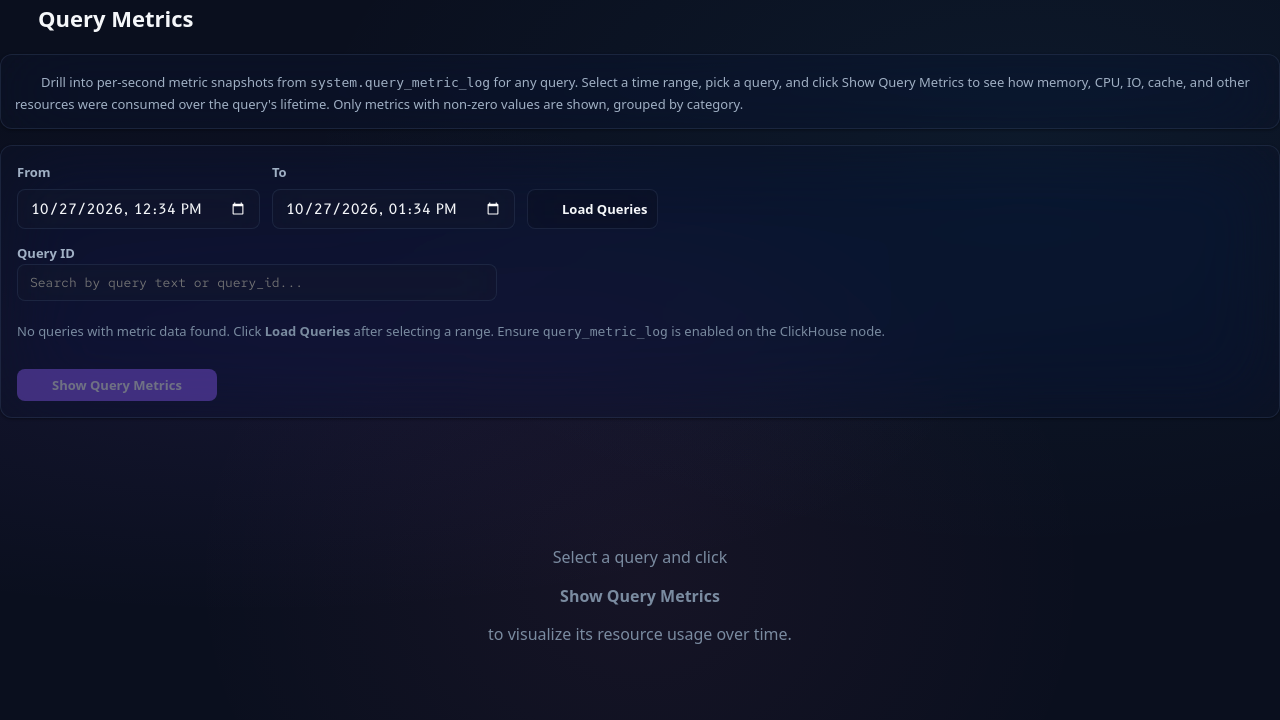
Test: QueryMetrics Component › popup full query fallback when full query fetch fails
The image size is (1280, 720).
Click the button "Load Queries". click: {"x": 593, "y": 209}
box: [527,189,658,229]
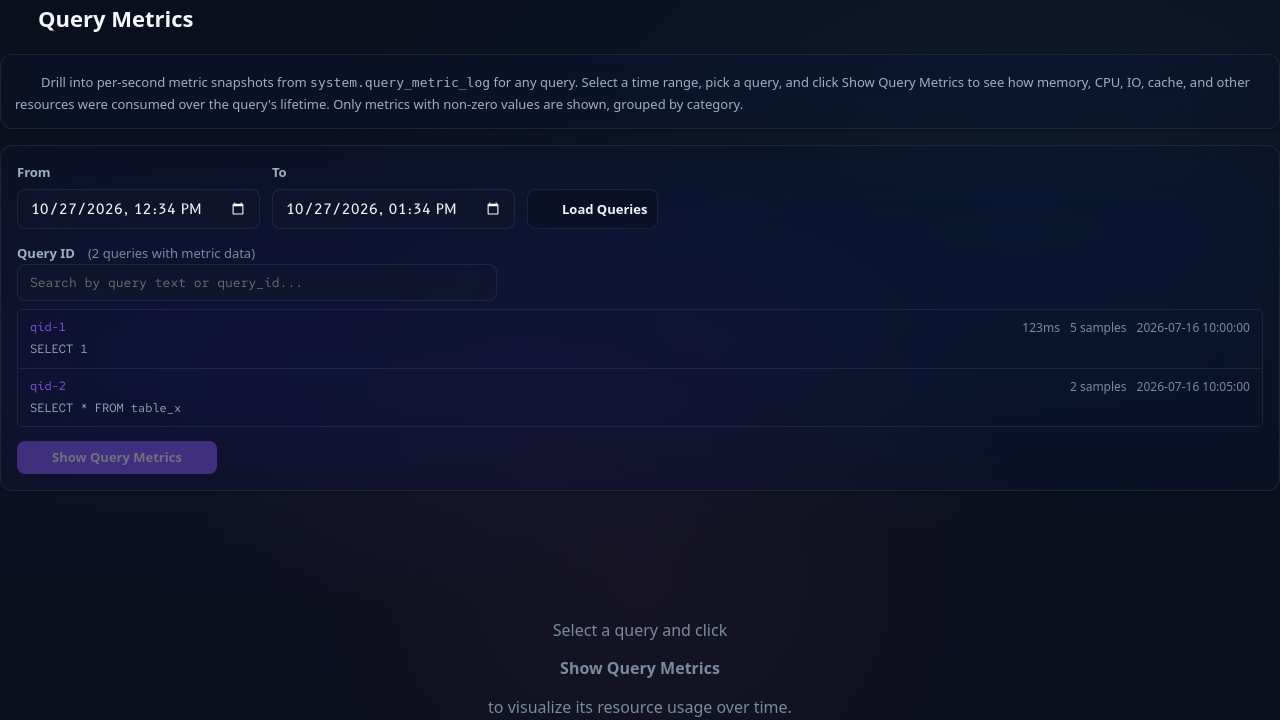
Click the text "qid-1". click: {"x": 48, "y": 328}
box: [30,318,66,338]
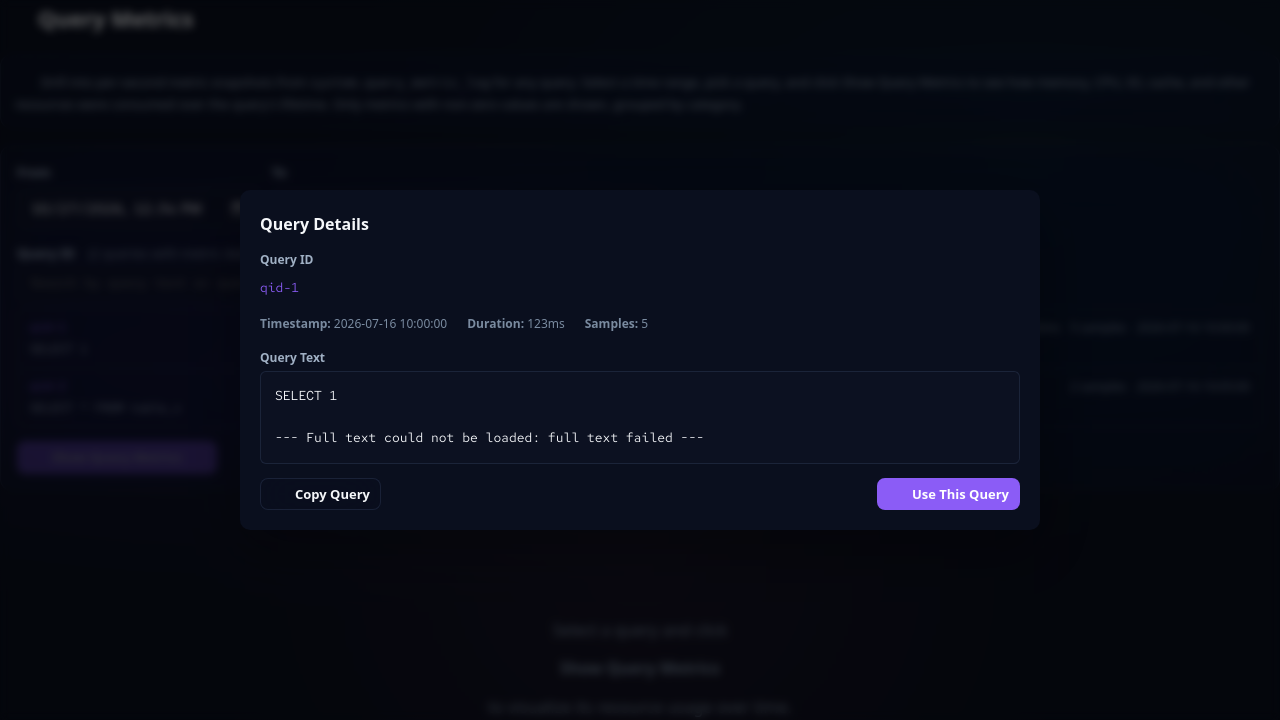
Expected: the text "Full text could not be loaded" is shown, [275,387,704,446]
